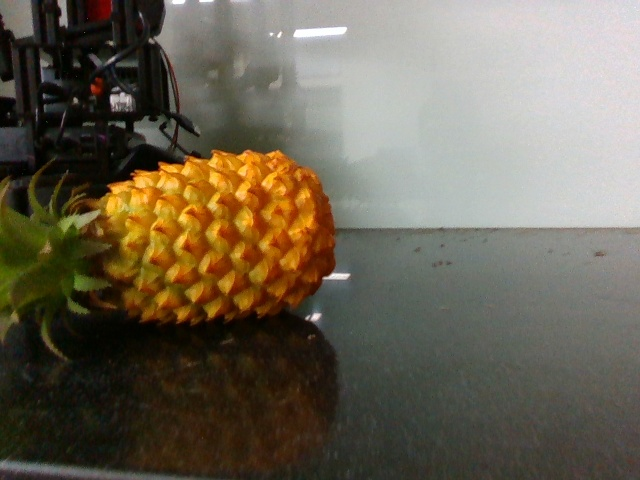pineapple: (5, 145, 340, 349)
